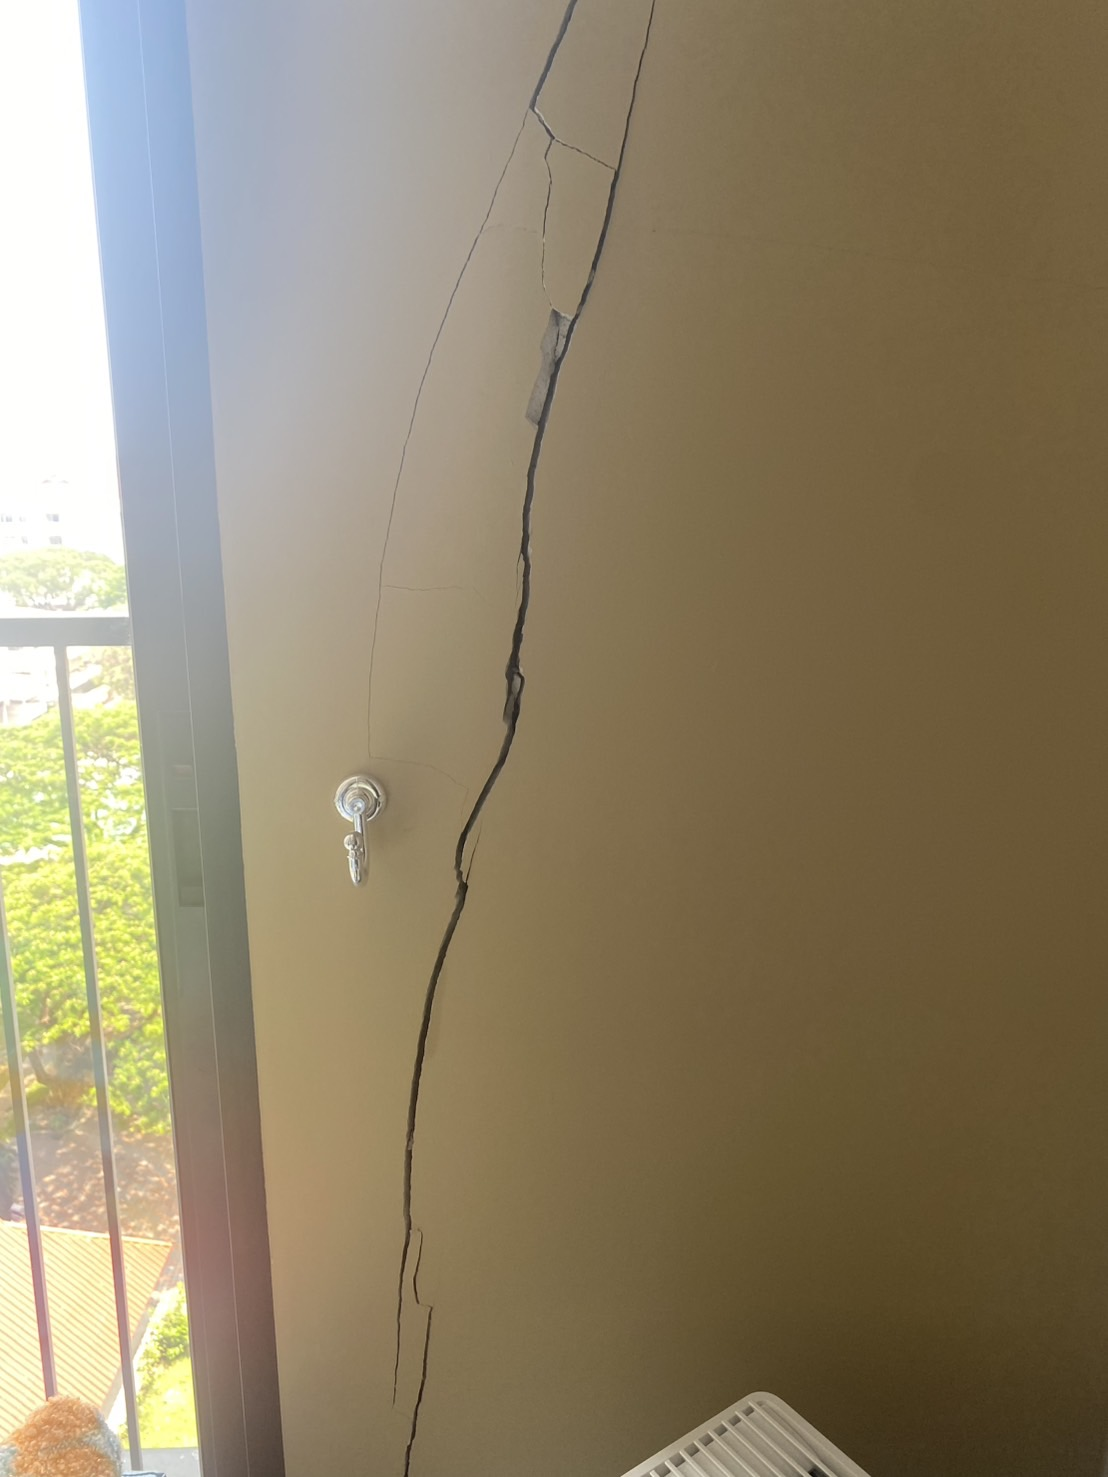Medium: (393, 27, 690, 1284)
